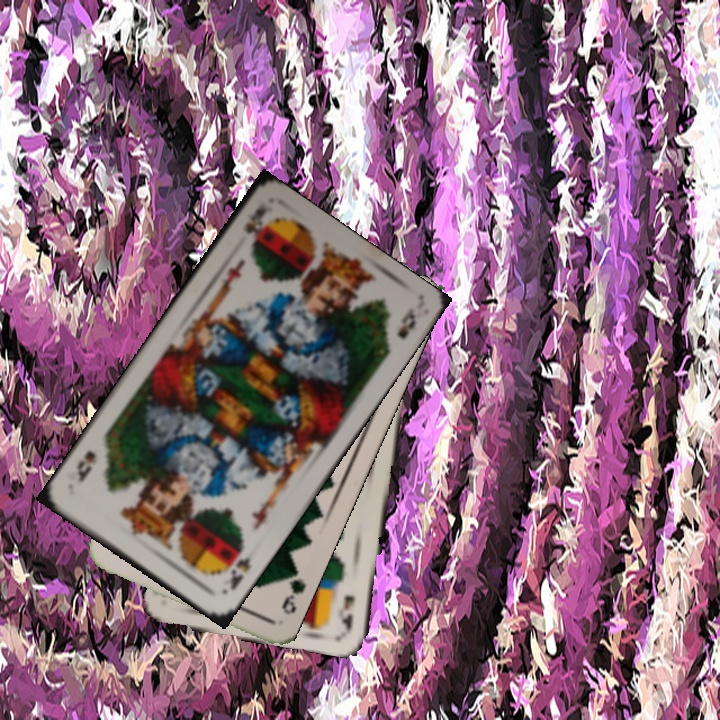EK: (337, 590, 358, 632)
G9: (277, 562, 309, 617)
SK: (218, 541, 253, 597), (240, 201, 269, 241)
